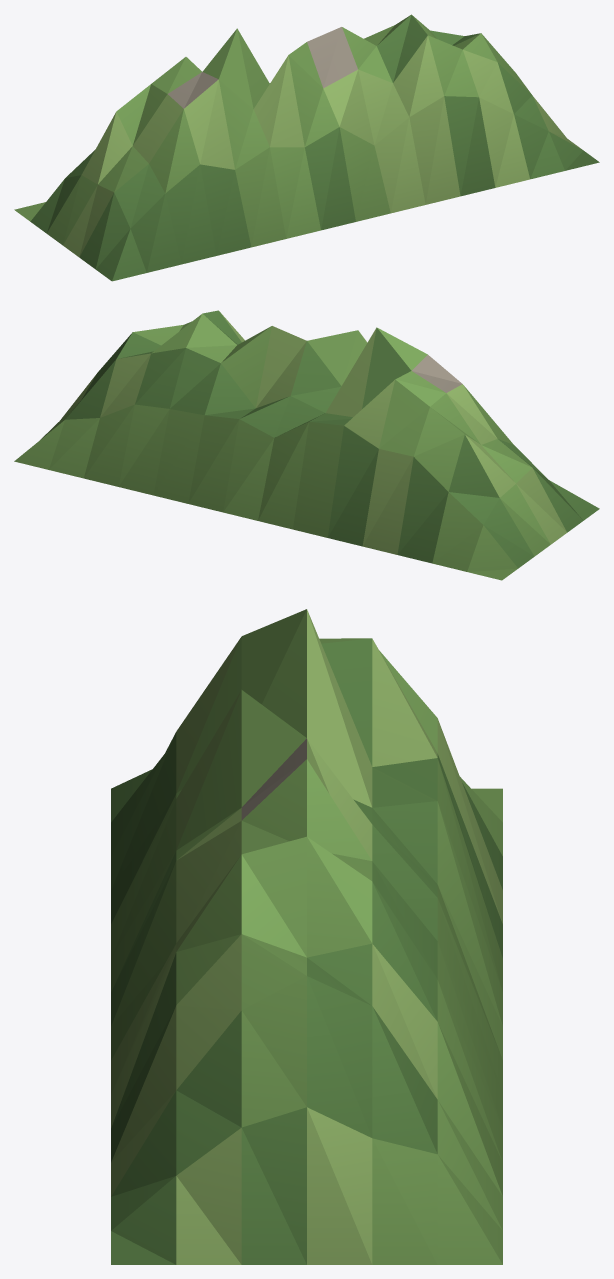
Rendered from law.glb.
3 views of the same model, one above another, from view 1: azimuth 30°, elevation 25°; view 2: azimuth 150°, elevation 25°; view 3: azimuth 270°, elevation 25° (orthographic). The views are drawn at different scales.
Visible parts, largest first — view 1: law_hill; view 2: law_hill; view 3: law_hill.
Part boxes in pixels (bbox=[...]): law_hill: bbox=[14, 14, 599, 281]; law_hill: bbox=[14, 310, 599, 580]; law_hill: bbox=[111, 609, 502, 1264].
Size of the model in its own units: 46 by 15.94 by 16.
